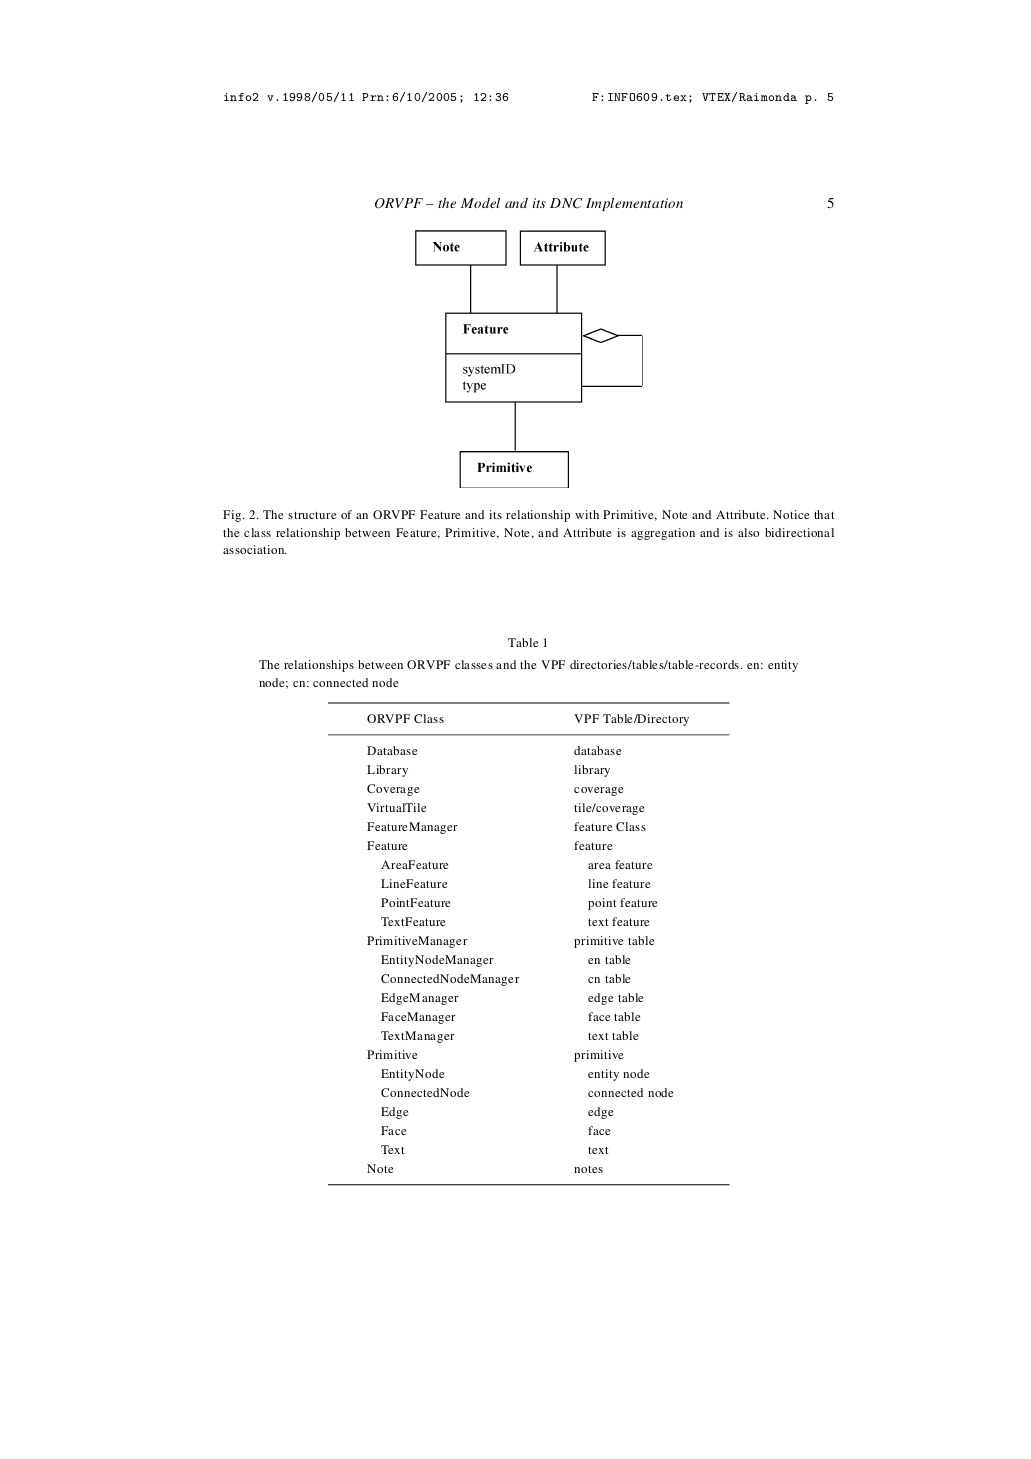Table: (328, 702, 729, 1185)
figure: (415, 229, 642, 487)
